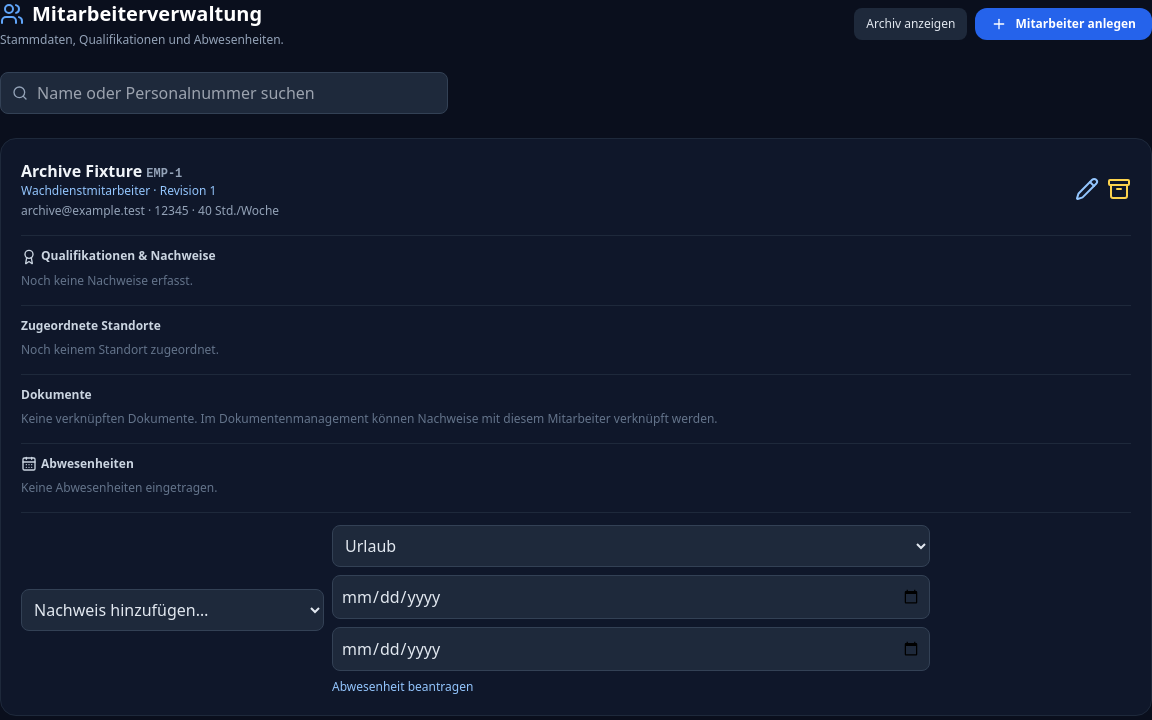
it: Resource forms confirmed persistence › employee archive waits for confirmation and displays a rejected operation
Click the button named "Archivieren": (1119, 189) [1107, 159, 1131, 219]
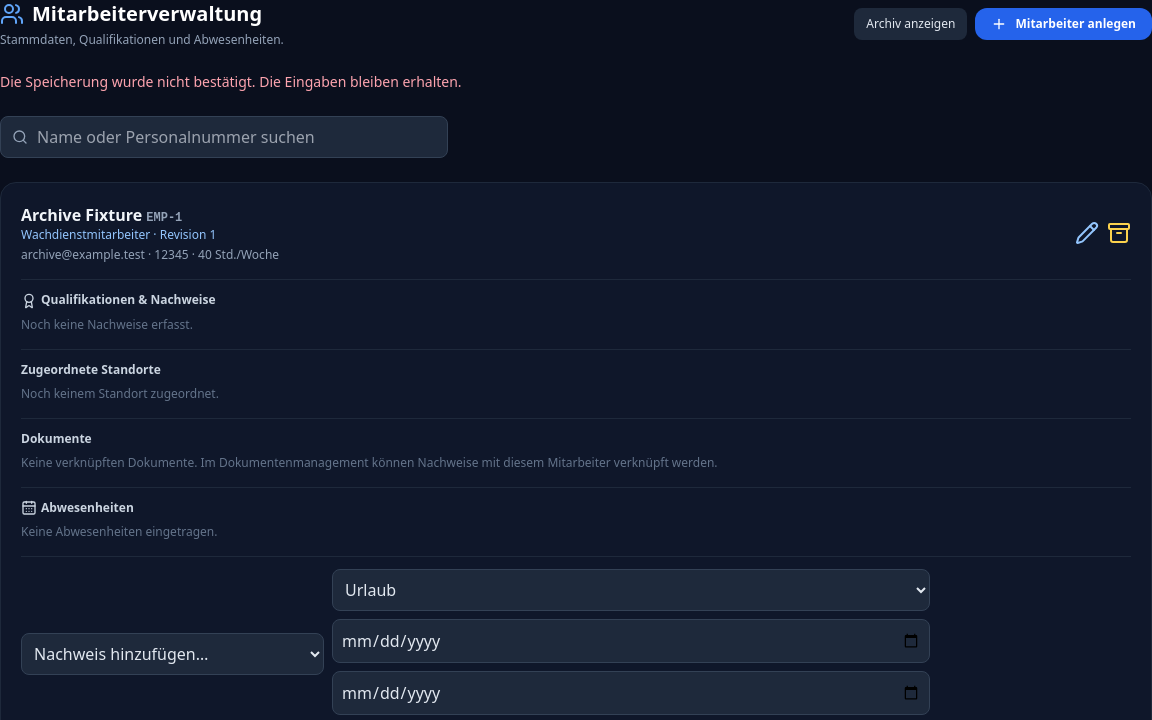
Expected: the message "Die Speicherung wurde nicht bestätigt. Die Eingaben bleiben erhalten." is shown, [0, 72, 462, 91]
